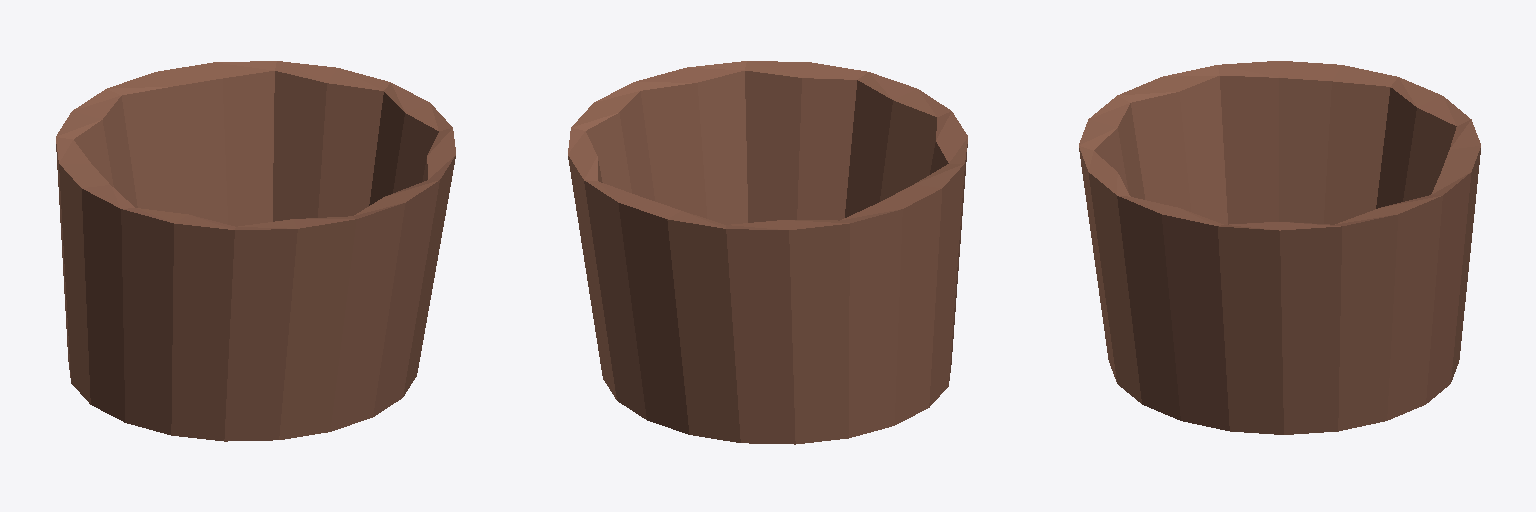
File: Basket_Visual.obj
3 views of the same model, side by side, from view 1: azimuth 30°, elevation 25°; view 2: azimuth 150°, elevation 25°; view 3: azimuth 270°, elevation 25° (orthographic).
Parts seen in each view (by area): view 1: Basket_Visual; view 2: Basket_Visual; view 3: Basket_Visual.
Part boxes in pixels (left/top/right/bottom): Basket_Visual: left=56, top=61, right=455, bottom=441; Basket_Visual: left=568, top=61, right=967, bottom=444; Basket_Visual: left=1079, top=61, right=1480, bottom=434.
Bounding box in the file's own units: 1.15 × 0.6957 × 1.15.